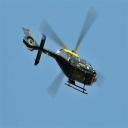helicopter: (21, 9, 109, 103)
